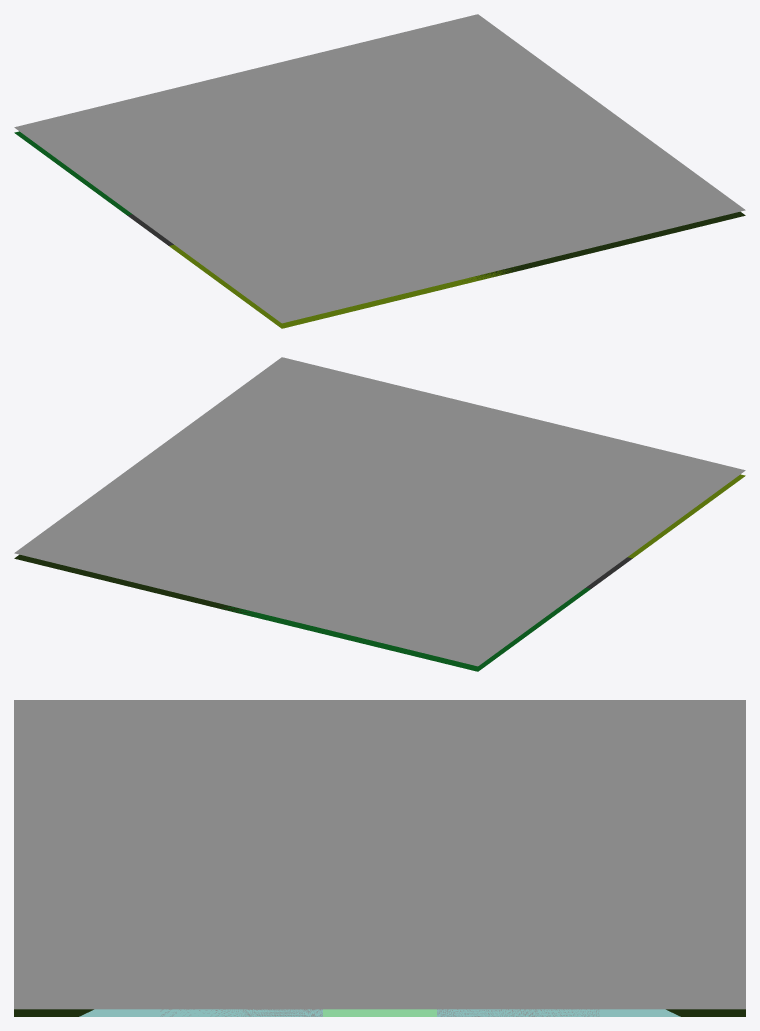
The model's file is RT LINE V01 T05 SNAP.FBX.
The picture shows the model from 3 angles, top to bottom: view 1: azimuth 30°, elevation 25°; view 2: azimuth 150°, elevation 25°; view 3: azimuth 270°, elevation 25°; orthographic projection. The views are drawn at different scales.
Visible parts, largest first — view 1: RT LINE V01 T05 SNAP, RT LINE V01 NAV Grass.Conc, RT LINE V01 T05, RT LINE V01 NAV Grass; view 2: RT LINE V01 T05 SNAP, RT LINE V01 NAV Grass, RT LINE V01 T05, RT LINE V01 NAV Grass.Conc; view 3: RT LINE V01 T05 SNAP, RT LINE V01 T05, RT LINE V01 T05 NoGrass.
Boxes of the visible parts, x1=… form: RT LINE V01 T05 SNAP: x1=14, y1=14, x2=745, y2=323; RT LINE V01 NAV Grass.Conc: x1=169, y1=245, x2=514, y2=328; RT LINE V01 T05: x1=471, y1=211, x2=745, y2=279; RT LINE V01 NAV Grass: x1=14, y1=131, x2=132, y2=215; RT LINE V01 T05 SNAP: x1=14, y1=357, x2=745, y2=666; RT LINE V01 NAV Grass: x1=219, y1=588, x2=590, y2=671; RT LINE V01 T05: x1=14, y1=554, x2=265, y2=618; RT LINE V01 NAV Grass.Conc: x1=627, y1=474, x2=745, y2=558; RT LINE V01 T05 SNAP: x1=14, y1=700, x2=745, y2=1009; RT LINE V01 T05: x1=14, y1=1009, x2=745, y2=1016; RT LINE V01 T05 NoGrass: x1=160, y1=1009, x2=599, y2=1016.
Size of the model in its own units: 90 by 1 by 90.
